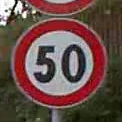limite 50: (10, 16, 107, 108)
